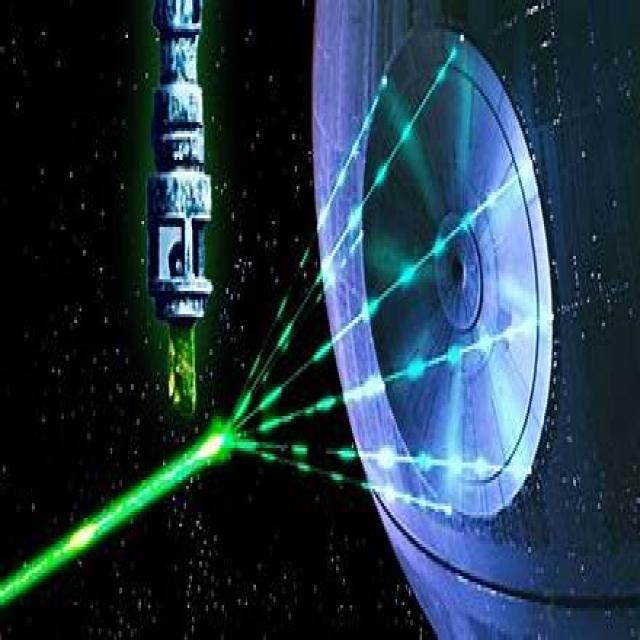deathStar: (313, 0, 640, 635)
